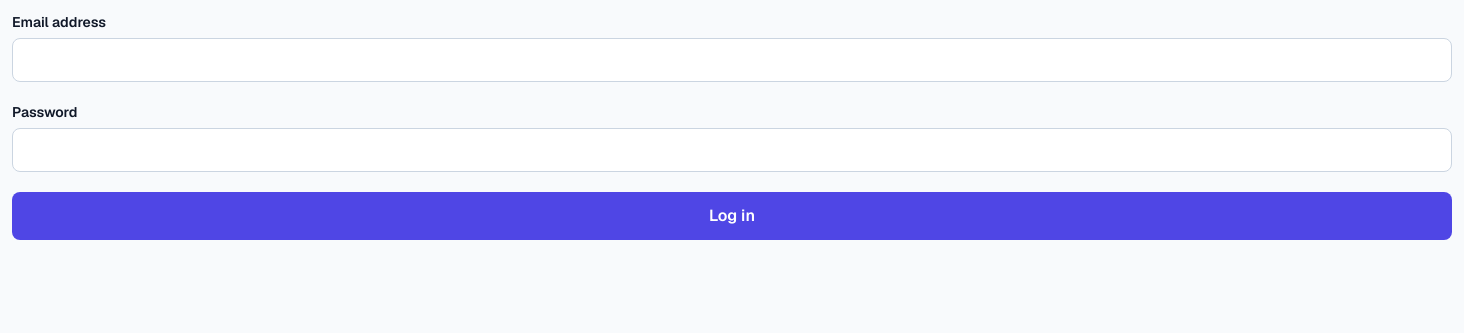
Scenario: log in never leaves the button on 'Logging in…' › an error ends the busy state and explains itself
Later steps or results of the test are not shown.
Type "s@example.test" into the field labelled "Email address". click: (732, 60)
box: [12, 38, 1452, 82]
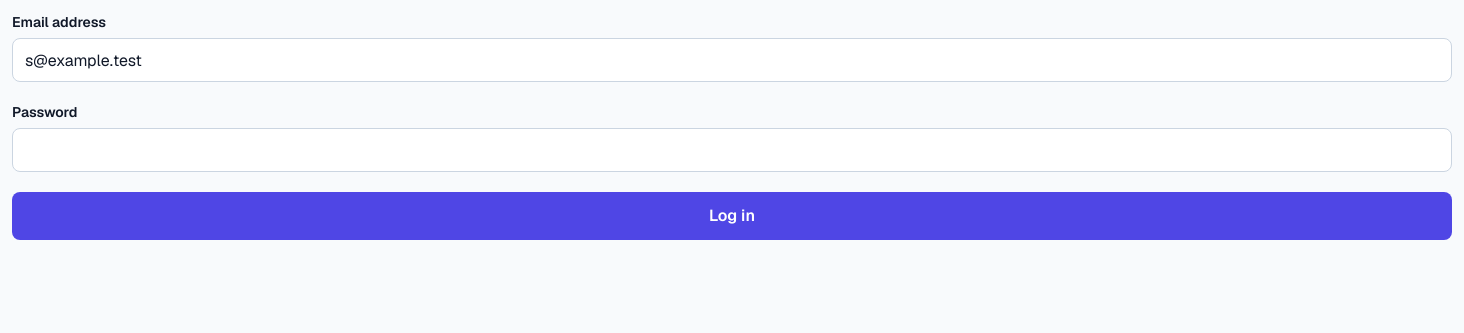
Type "correct horse battery 7" into the password field labelled "Password". click: (732, 150)
box: [12, 128, 1452, 172]
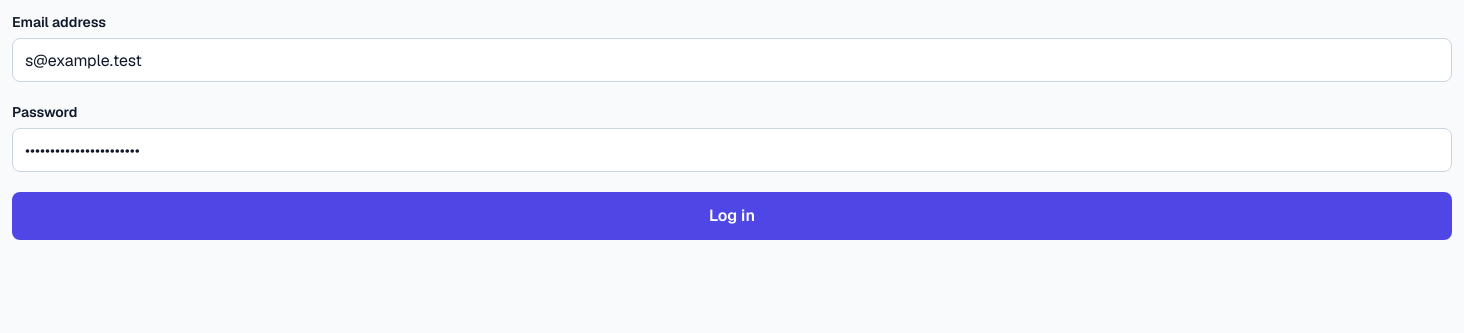
Submit the submit button
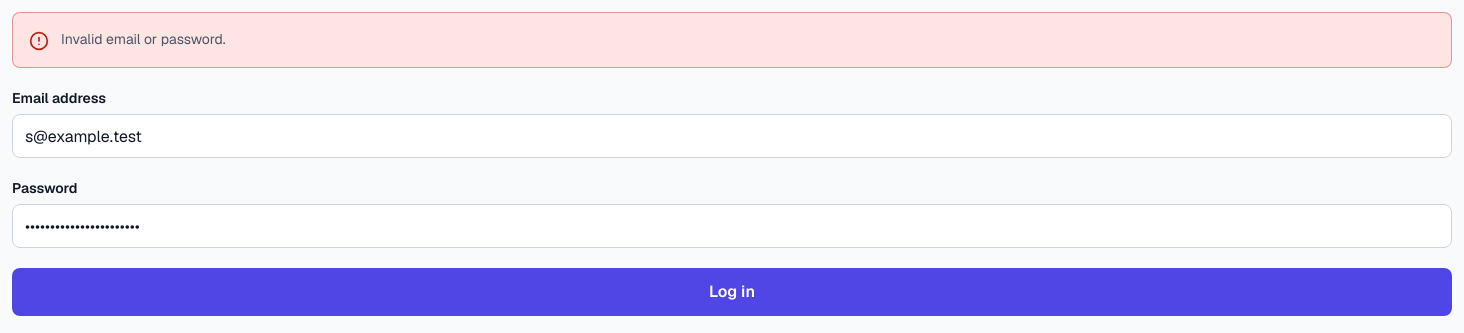
Expected: the submit button is enabled, [12, 268, 1452, 316]
Result: the text "Invalid email or password." is shown at [61, 29, 226, 51]
